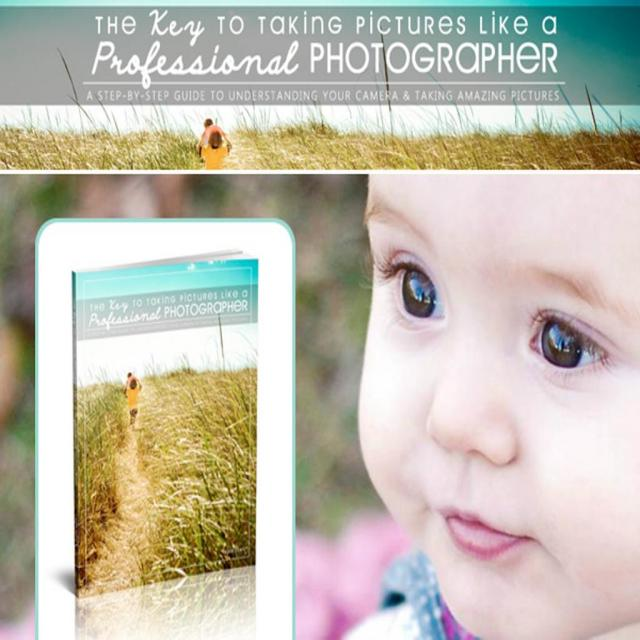nomask: (358, 167, 638, 639)
